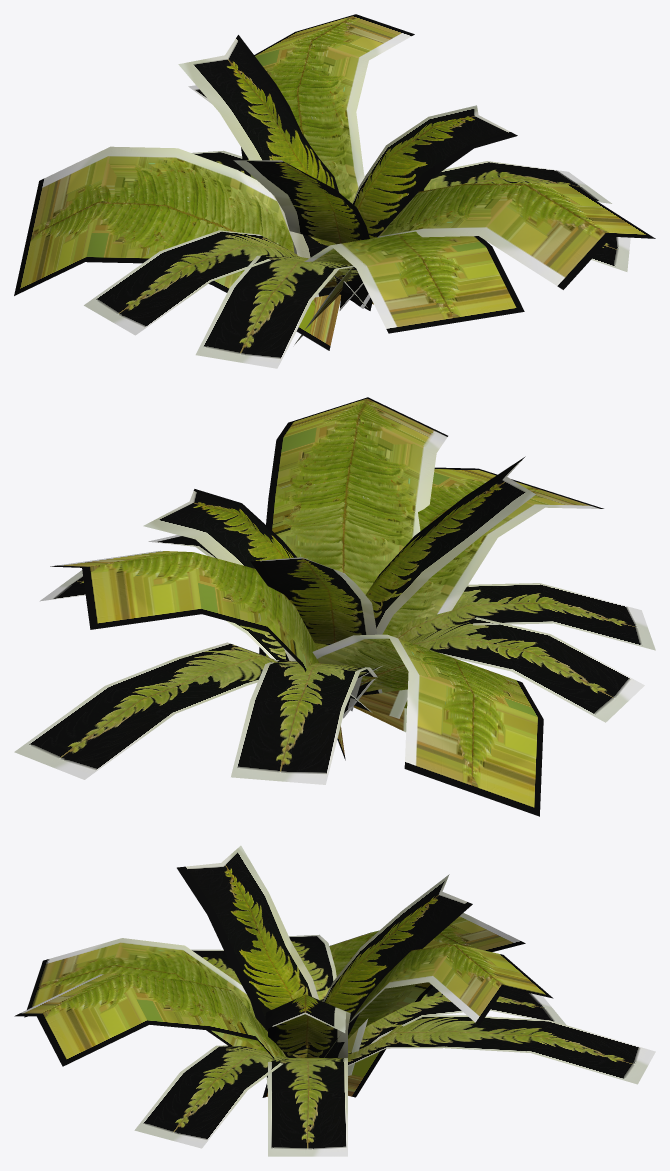
Rendered from Fern_04.fbx.
The picture shows the model from 3 angles, top to bottom: view 1: azimuth 30°, elevation 25°; view 2: azimuth 150°, elevation 25°; view 3: azimuth 270°, elevation 25°; orthographic projection. The views are drawn at different scales.
Parts seen in each view (by area): view 1: Fern_04; view 2: Fern_04; view 3: Fern_04.
Boxes of the visible parts, x1=… form: Fern_04: x1=14, y1=14, x2=655, y2=368; Fern_04: x1=14, y1=397, x2=655, y2=816; Fern_04: x1=14, y1=845, x2=655, y2=1156.
Bounding box in the file's own units: 884 × 377 × 1071.
